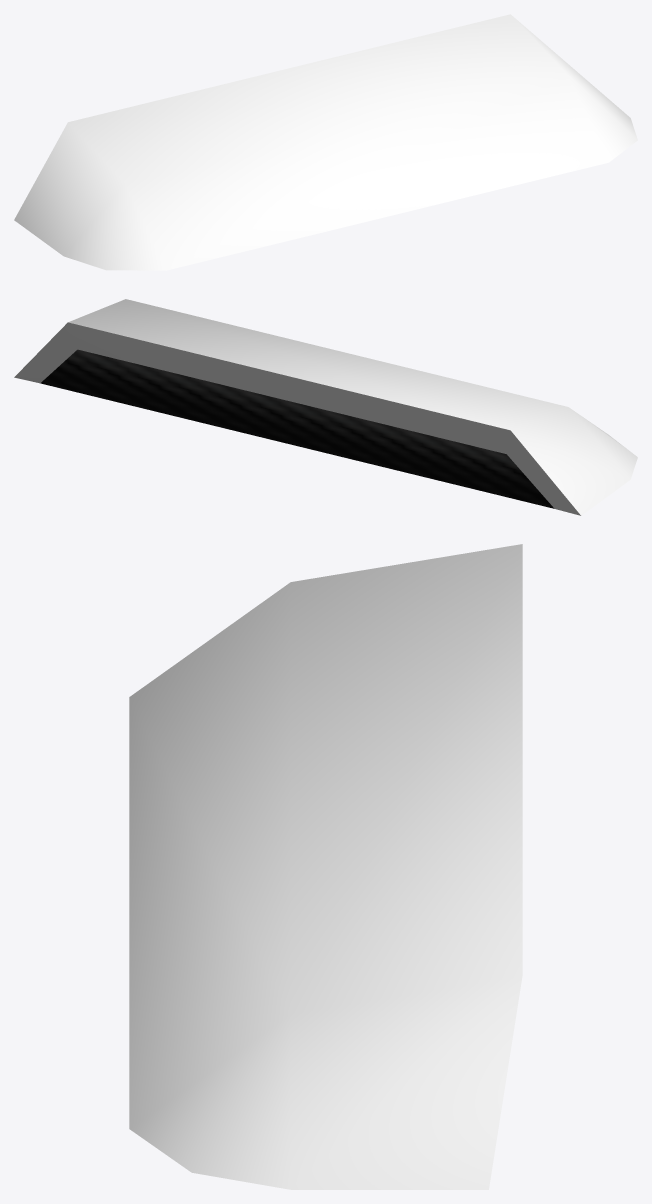
File: bnt_b_sc_l.glb
3 views of the same model, one above another, from view 1: azimuth 30°, elevation 25°; view 2: azimuth 150°, elevation 25°; view 3: azimuth 270°, elevation 25° (orthographic). The views are drawn at different scales.
Visible parts, largest first — view 1: bnt_b_sc_l; view 2: bnt_b_sc_l; view 3: bnt_b_sc_l.
Part boxes in pixels (x1,y1,x2,y2): bnt_b_sc_l: (14, 14, 637, 270); bnt_b_sc_l: (14, 299, 637, 515); bnt_b_sc_l: (129, 544, 522, 1189).
Bounding box in the file's own units: 0.9263 × 0.1194 × 0.2779.
2 materials, 2 textured.
